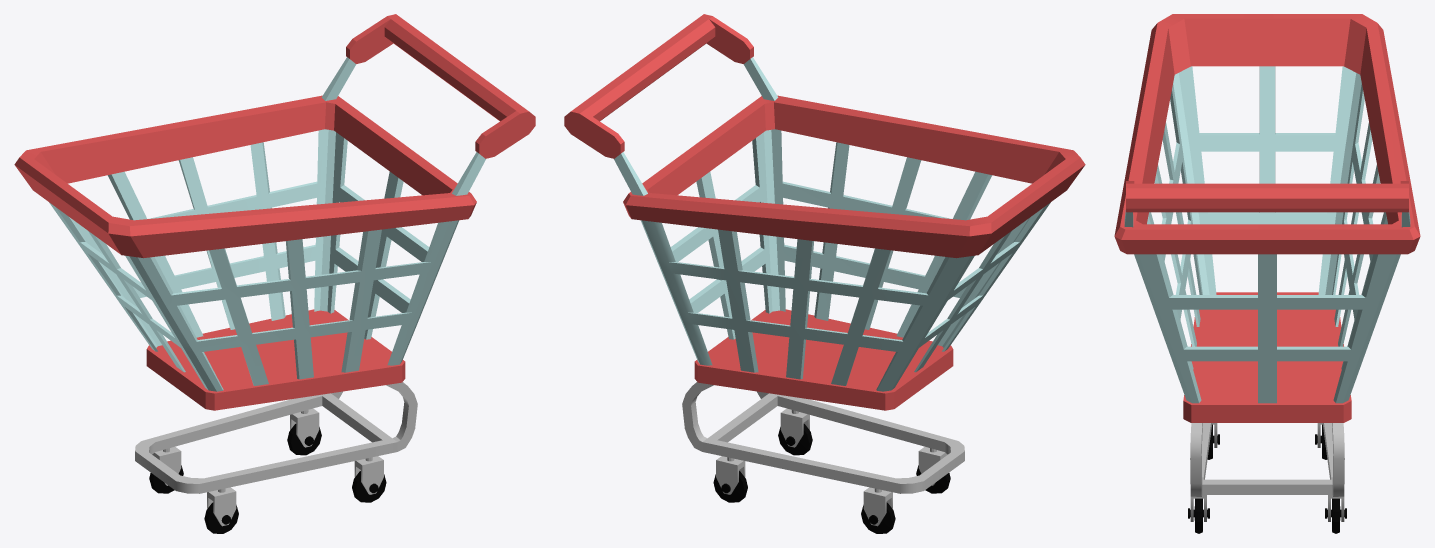
File: Cart_Rigged_FBX_02.fbx
3 views of the same model, side by side, from view 1: azimuth 30°, elevation 25°; view 2: azimuth 150°, elevation 25°; view 3: azimuth 270°, elevation 25° (orthographic). The views are drawn at different scales.
Parts seen in each view (by area): view 1: Cart_Body_GEO, Wheel_Back_L_GEO, Wheel_Front_L_GEO, Wheel_Back_R_GEO, Wheel_Front_R_GEO; view 2: Cart_Body_GEO, Wheel_Back_R_GEO, Wheel_Front_R_GEO, Wheel_Back_L_GEO, Wheel_Front_L_GEO; view 3: Cart_Body_GEO, Wheel_Back_L_GEO, Wheel_Back_R_GEO.
Boxes of the visible parts, x1,y1,x2,y2 form: Cart_Body_GEO: (14,14,535,493); Wheel_Back_L_GEO: (352,456,386,502); Wheel_Front_L_GEO: (204,487,238,533); Wheel_Back_R_GEO: (287,408,321,455); Wheel_Front_R_GEO: (149,446,183,493); Cart_Body_GEO: (564,14,1085,493); Wheel_Back_R_GEO: (713,456,747,502); Wheel_Front_R_GEO: (861,487,895,533); Wheel_Back_L_GEO: (778,408,812,455); Wheel_Front_L_GEO: (916,446,950,493); Cart_Body_GEO: (1114,14,1420,496); Wheel_Back_L_GEO: (1188,495,1209,533); Wheel_Back_R_GEO: (1325,495,1346,533).
Bounding box in the file's own units: 83.74 × 75.7 × 51.35.
